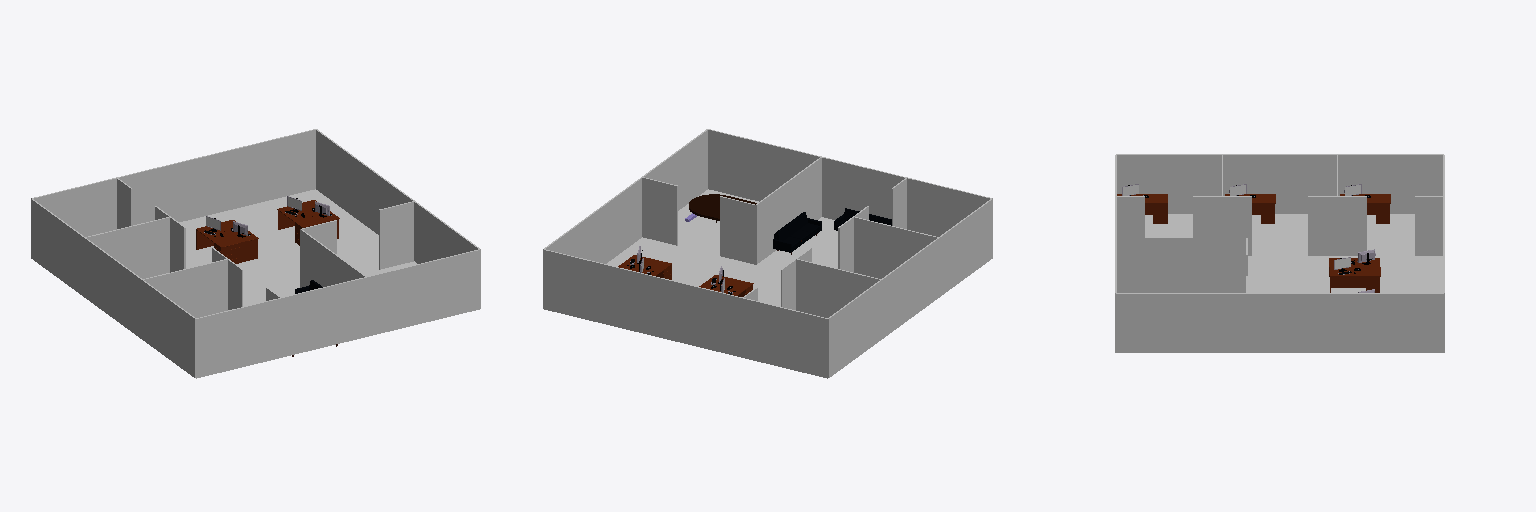
The model's file is office.obj.
3 views of the same model, side by side, from view 1: azimuth 30°, elevation 25°; view 2: azimuth 150°, elevation 25°; view 3: azimuth 270°, elevation 25° (orthographic).
Parts seen in each view (by area): view 1: Cube.001, Cube, Cube.003, Plane, Cube.004, Cube.007, Cube.012, Cube.013, Cube.009, Cube.016, Cube.019, Cube.006 (+5 smaller); view 2: Cube, Cube.001, Cube.003, Plane, Cube.004, Cube.009, Cube.012, Cube.007, Cube.005, Cube.013, couch1.001, Cube.011 (+3 smaller); view 3: Cube.004, Cube.003, Plane, Cube.009, Cube.006, Cube.011, Cube.008, Cube.017, Cube.010, Cube.015, Cube.014, Cube.088.
Boxes of the visible parts, x1=… form: Cube.001: x1=196, y1=249, x2=480, y2=378; Cube: x1=31, y1=129, x2=315, y2=236; Cube.003: x1=31, y1=199, x2=195, y2=377; Plane: x1=179, y1=189, x2=416, y2=306; Cube.004: x1=316, y1=129, x2=480, y2=263; Cube.007: x1=85, y1=217, x2=169, y2=278; Cube.012: x1=142, y1=259, x2=227, y2=317; Cube.013: x1=379, y1=201, x2=414, y2=269; Cube.009: x1=300, y1=229, x2=366, y2=287; Cube.016: x1=196, y1=216, x2=239, y2=263; Cube.019: x1=277, y1=196, x2=320, y2=245; Cube.006: x1=155, y1=206, x2=185, y2=272; Cube: x1=543, y1=249, x2=827, y2=378; Cube.001: x1=708, y1=129, x2=992, y2=236; Cube.003: x1=828, y1=199, x2=992, y2=377; Plane: x1=607, y1=189, x2=837, y2=306; Cube.004: x1=543, y1=129, x2=707, y2=263; Cube.009: x1=756, y1=157, x2=821, y2=264; Cube.012: x1=854, y1=217, x2=937, y2=278; Cube.007: x1=796, y1=259, x2=880, y2=317; Cube.005: x1=720, y1=196, x2=755, y2=264; Cube.013: x1=642, y1=177, x2=677, y2=245; couch1.001: x1=773, y1=212, x2=821, y2=254; Cube.011: x1=838, y1=206, x2=868, y2=272; Cube.004: x1=1116, y1=293, x2=1443, y2=352; Cube.003: x1=1116, y1=154, x2=1443, y2=213; Plane: x1=1145, y1=214, x2=1442, y2=292; Cube.009: x1=1117, y1=238, x2=1245, y2=292; Cube.006: x1=1308, y1=196, x2=1366, y2=255; Cube.011: x1=1193, y1=196, x2=1251, y2=255; Cube.008: x1=1415, y1=196, x2=1442, y2=255; Cube.017: x1=1329, y1=257, x2=1380, y2=292; Cube.010: x1=1117, y1=196, x2=1144, y2=237; Cube.015: x1=1340, y1=184, x2=1390, y2=223; Cube.014: x1=1225, y1=184, x2=1275, y2=223; Cube.088: x1=1117, y1=184, x2=1167, y2=223.
Size of the model in its own units: 20.1 by 4.3 by 20.1.